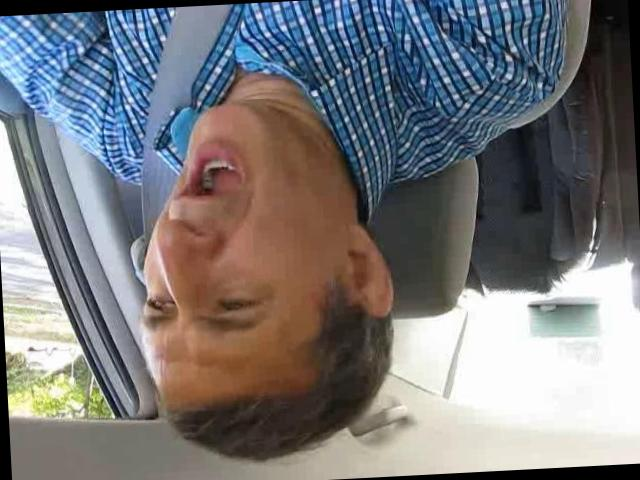eye_open: (210, 288, 266, 318), (146, 293, 173, 318)
face: (130, 95, 330, 354)
mouth_open: (169, 142, 249, 220)
